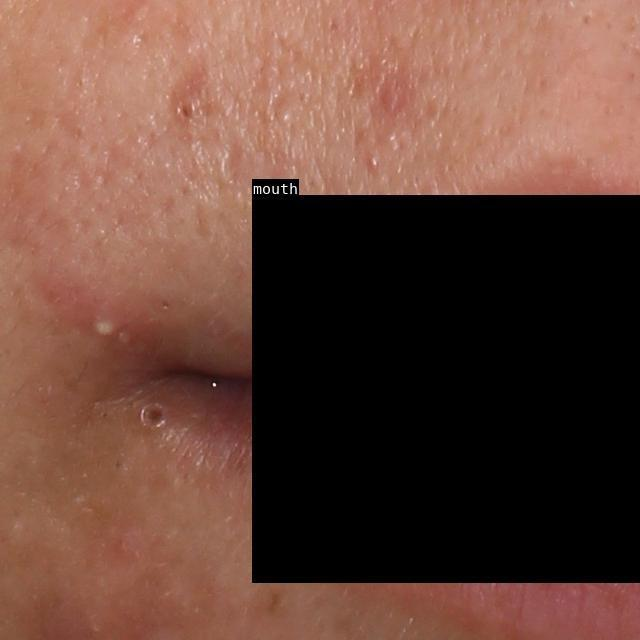comedo: (133, 393, 180, 439), (172, 94, 203, 127)
pustule: (87, 314, 120, 343)
